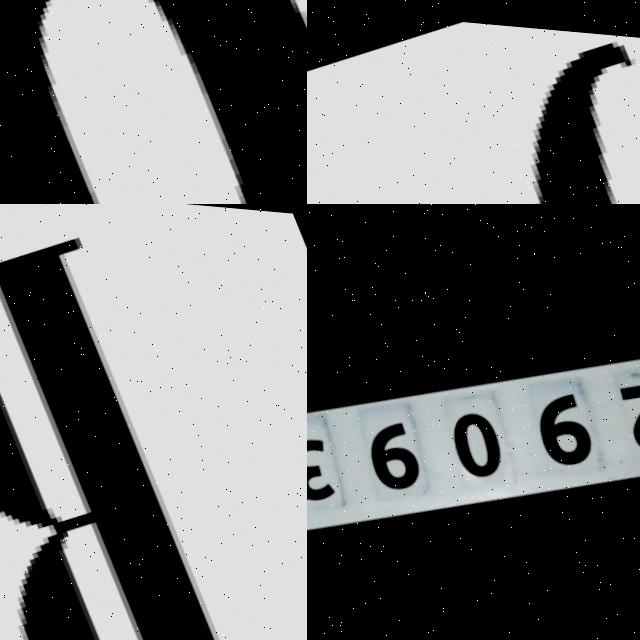0: (0, 0, 307, 204), (432, 379, 528, 495)
2: (600, 350, 640, 466)
3: (307, 413, 355, 519)
9: (513, 359, 617, 485), (346, 392, 445, 510)
B: (0, 231, 216, 640)
J: (380, 11, 640, 204)
